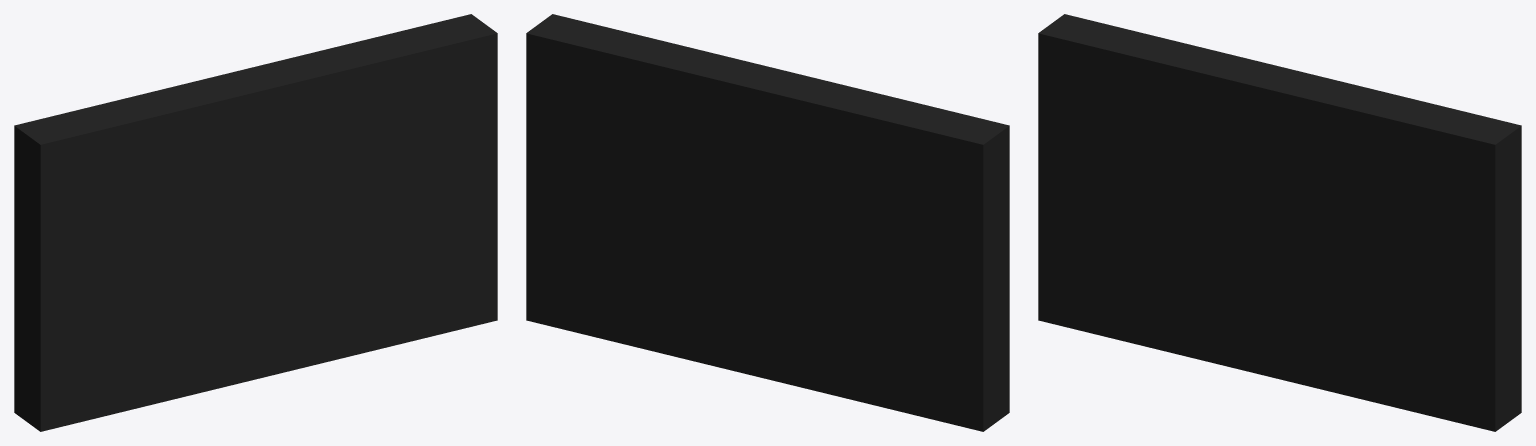
The model's file is Wall-5.fbx.
The picture shows the model from 3 angles, left to right: view 1: azimuth 30°, elevation 25°; view 2: azimuth 150°, elevation 25°; view 3: azimuth 330°, elevation 25°; orthographic projection.
Visible parts, largest first — view 1: Wall-5; view 2: Wall-5; view 3: Wall-5.
Part boxes in pixels (bbox=[...]): Wall-5: bbox=[14, 14, 497, 431]; Wall-5: bbox=[526, 14, 1009, 431]; Wall-5: bbox=[1038, 14, 1521, 431].
Size of the model in its own units: 2 by 1.2 by 0.2.
